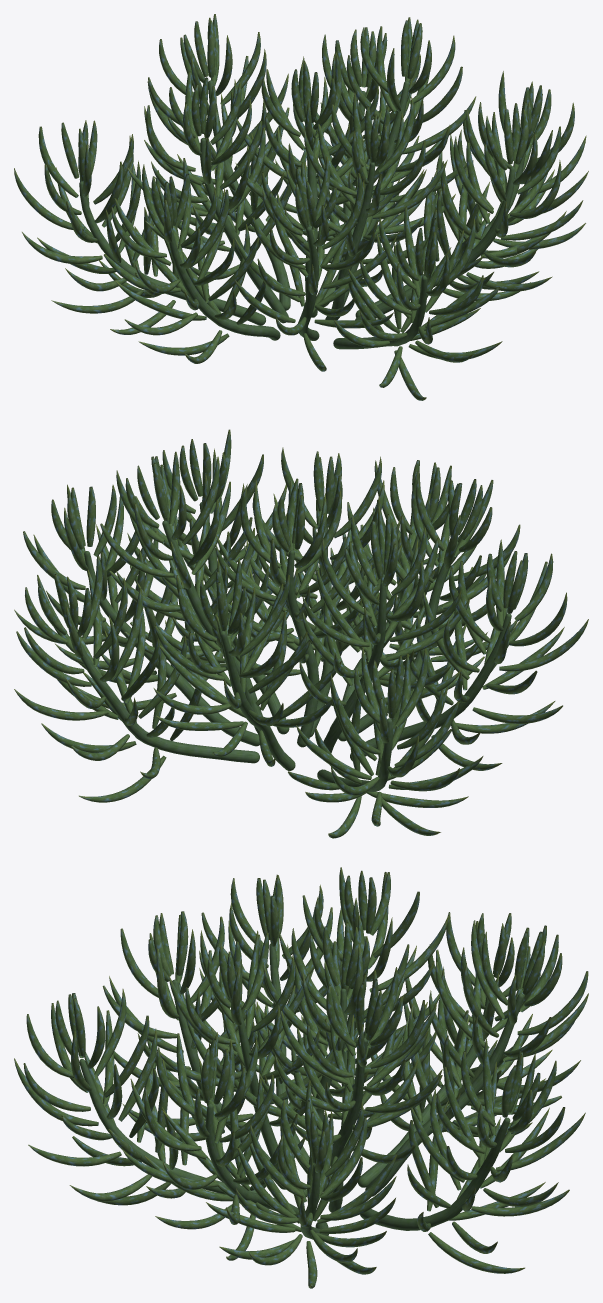
The model's file is senecio_3.fbx.
The picture shows the model from 3 angles, top to bottom: view 1: azimuth 30°, elevation 25°; view 2: azimuth 150°, elevation 25°; view 3: azimuth 270°, elevation 25°; orthographic projection. The views are drawn at different scales.
Visible parts, largest first — view 1: Senecio_m__A003; view 2: Senecio_m__A003; view 3: Senecio_m__A003.
Part boxes in pixels (x1=…): Senecio_m__A003: x1=14, y1=14, x2=588, y2=400; Senecio_m__A003: x1=14, y1=429, x2=588, y2=838; Senecio_m__A003: x1=14, y1=867, x2=588, y2=1288.
Size of the model in its own units: 387 by 208 by 360.
